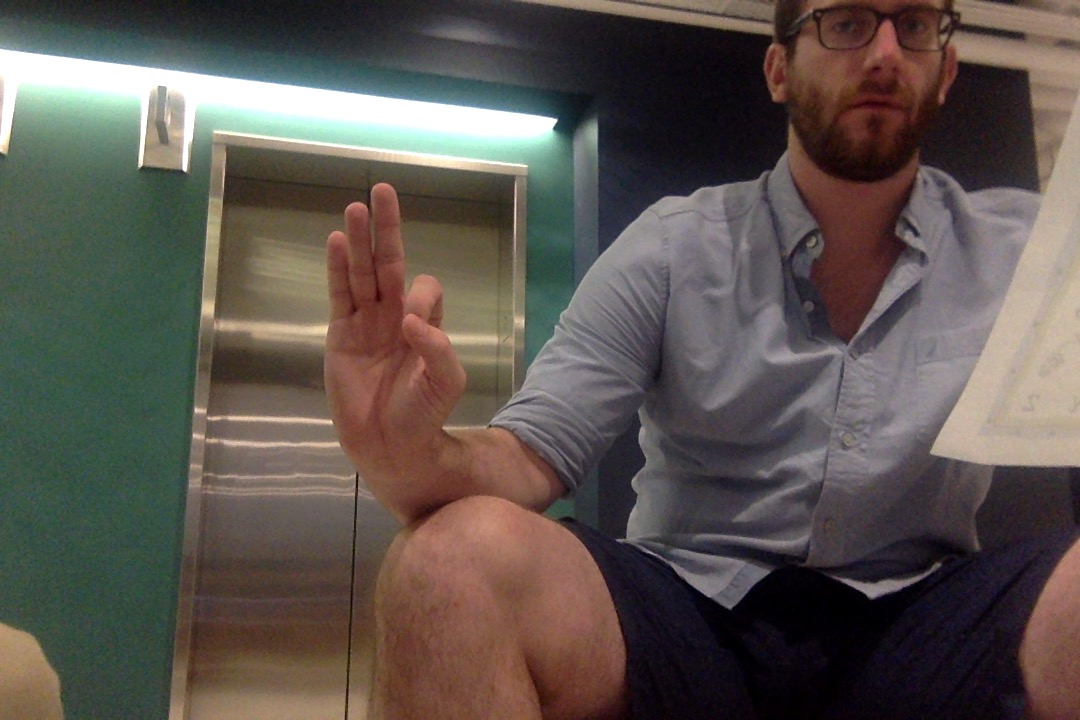f: (316, 174, 471, 475)
